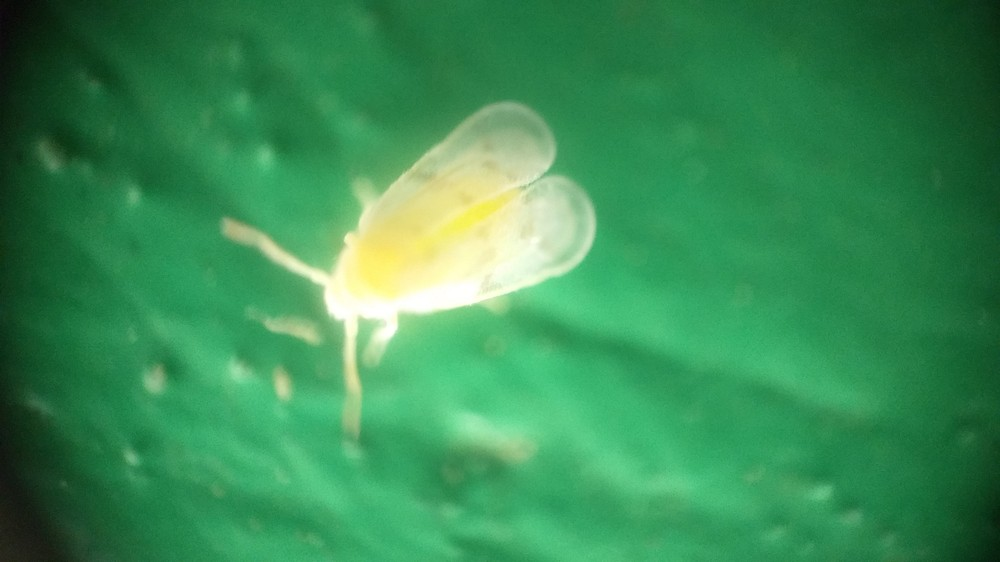Mosca Blanca: (212, 87, 648, 458)
